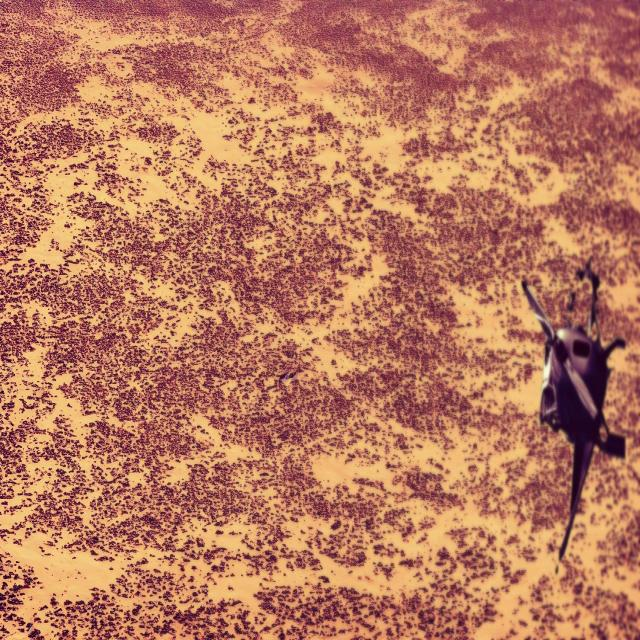airplane: (520, 254, 626, 560)
